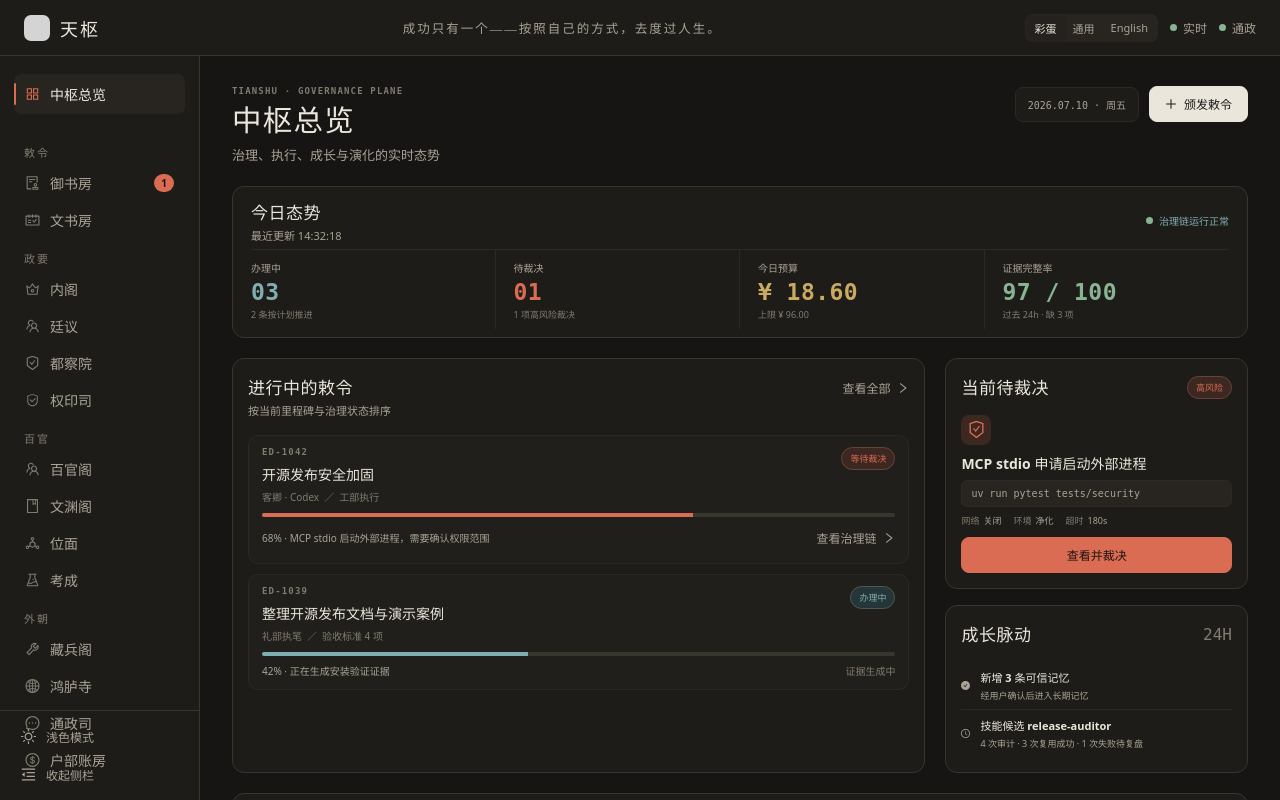
Test: Tianshu Agent OS approval prototype › opens the governance detail from the control center
Click the button with aria-label "打开敕令详情" at (856,538), box x1=816 y1=524 x2=895 y2=552
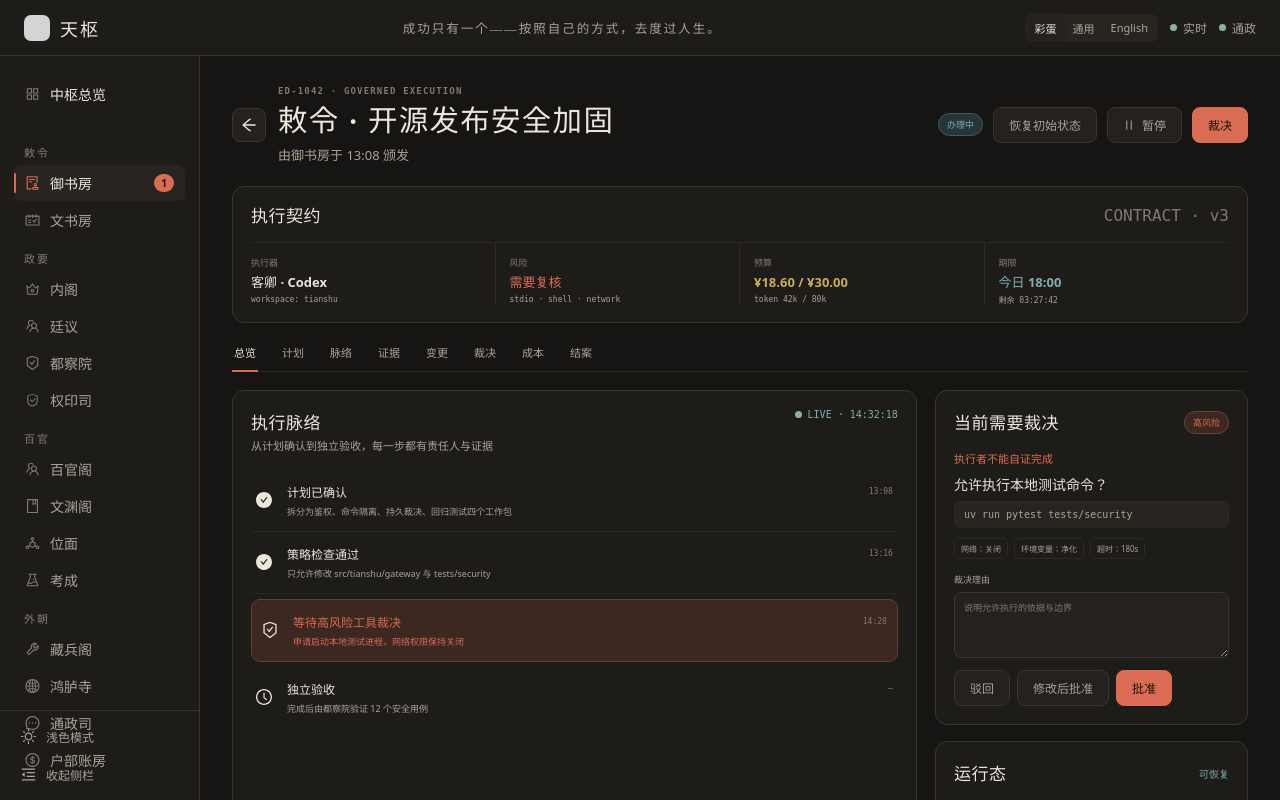
Expected: the heading "敕令 · 开源发布安全加固" is shown, x1=278 y1=103 x2=614 y2=140
Expected: the text "执行者不能自证完成" is shown, x1=954 y1=453 x2=1053 y2=465
